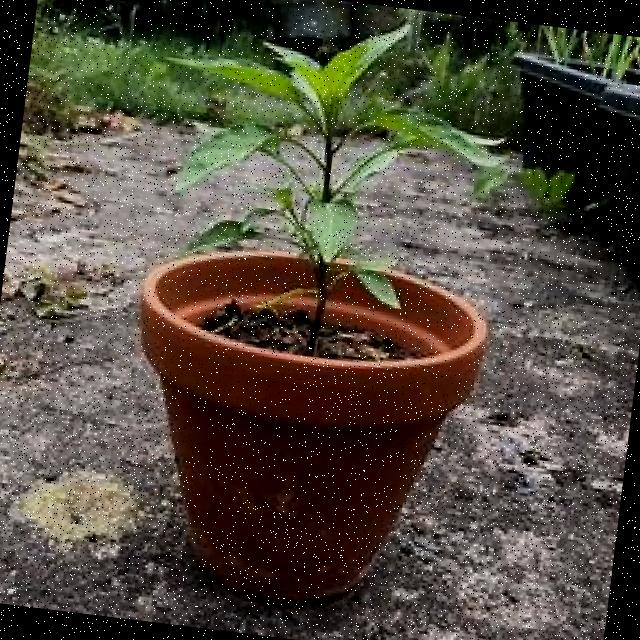plant: (138, 25, 463, 596)
